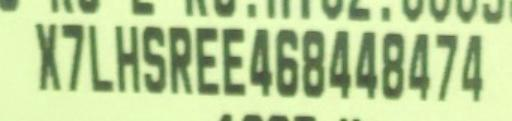letter: (80, 22, 122, 93), (108, 19, 146, 96), (456, 30, 494, 105), (133, 22, 173, 93), (296, 28, 334, 99), (218, 20, 252, 99), (54, 19, 90, 92), (164, 22, 200, 95), (270, 25, 306, 98), (30, 19, 64, 92), (377, 28, 411, 101), (350, 28, 384, 99), (324, 25, 356, 100), (404, 28, 436, 101), (431, 28, 463, 101), (245, 26, 277, 97), (194, 23, 222, 96)
